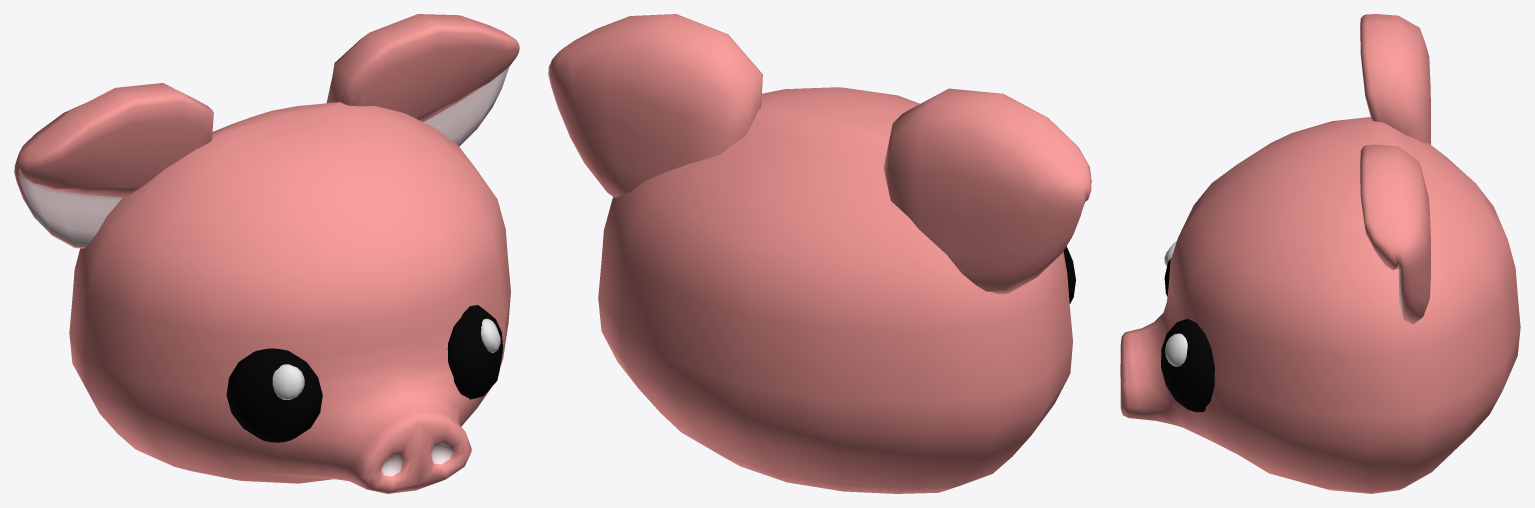
The model's file is pighead.fbx.
The picture shows the model from 3 angles, left to right: view 1: azimuth 30°, elevation 25°; view 2: azimuth 150°, elevation 25°; view 3: azimuth 270°, elevation 25°; orthographic projection. The views are drawn at different scales.
Parts seen in each view (by area): view 1: pig_head; view 2: pig_head; view 3: pig_head.
Part boxes in pixels (x1,y1,x2,y2): pig_head: (14,14,519,493); pig_head: (548,14,1091,493); pig_head: (1120,14,1520,493).
Bounding box in the file's own units: 70.82 × 51.77 × 52.76.
